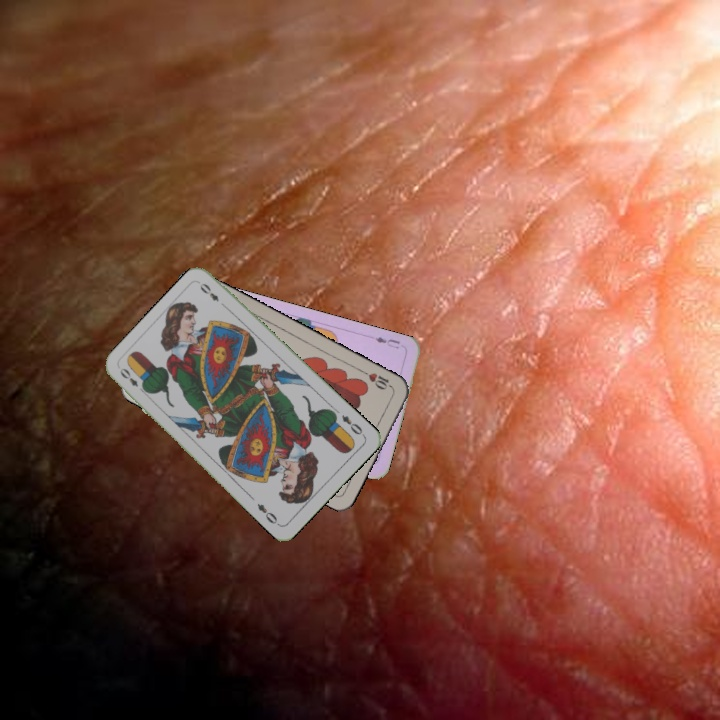EO: (116, 364, 149, 396), (337, 411, 367, 439)
EU: (371, 333, 402, 352)
H10: (358, 366, 395, 392)
